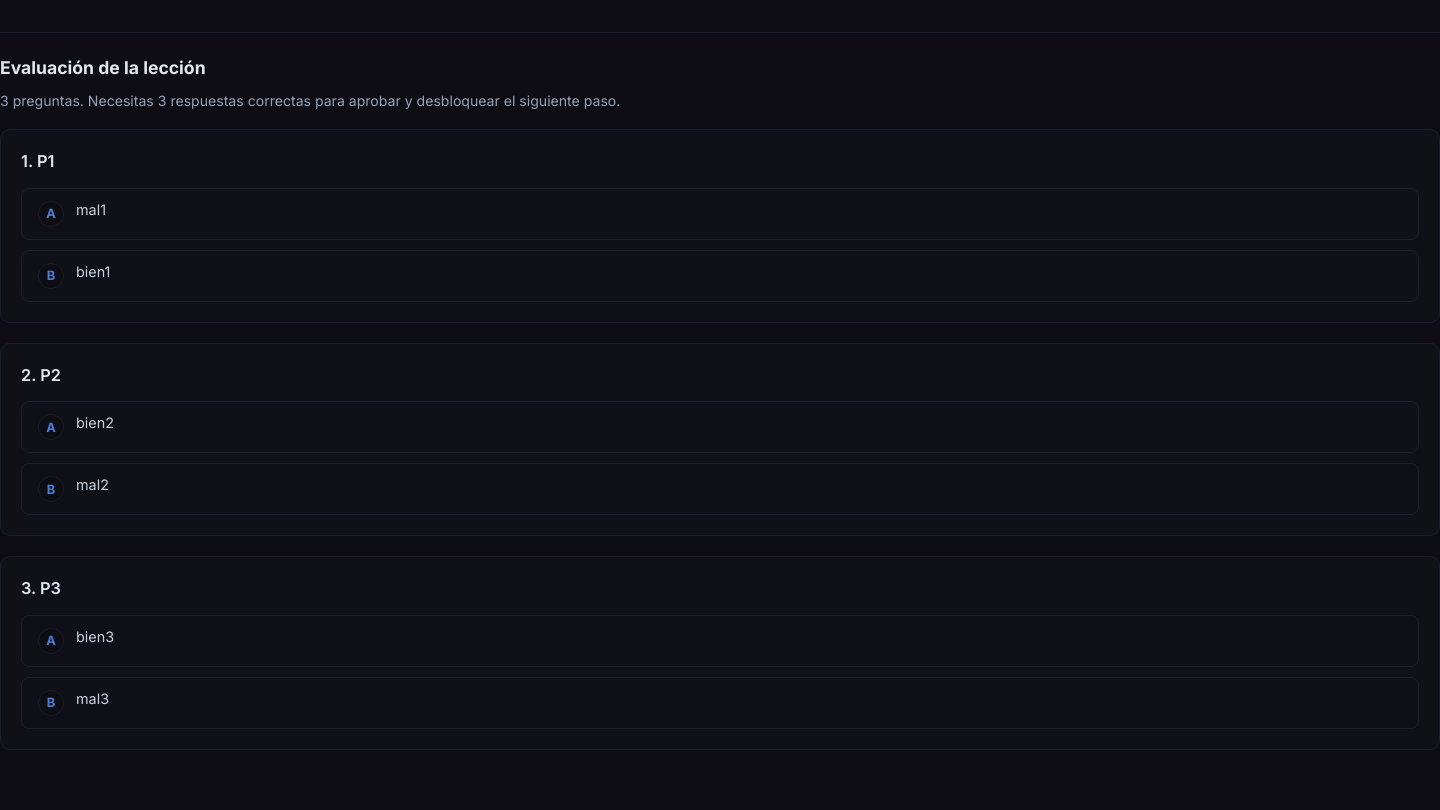
Test: Quiz › no aprueba con un error y permite reintentar
Click the button "B bien1": coordinates (93, 271) [21, 250, 1419, 302]
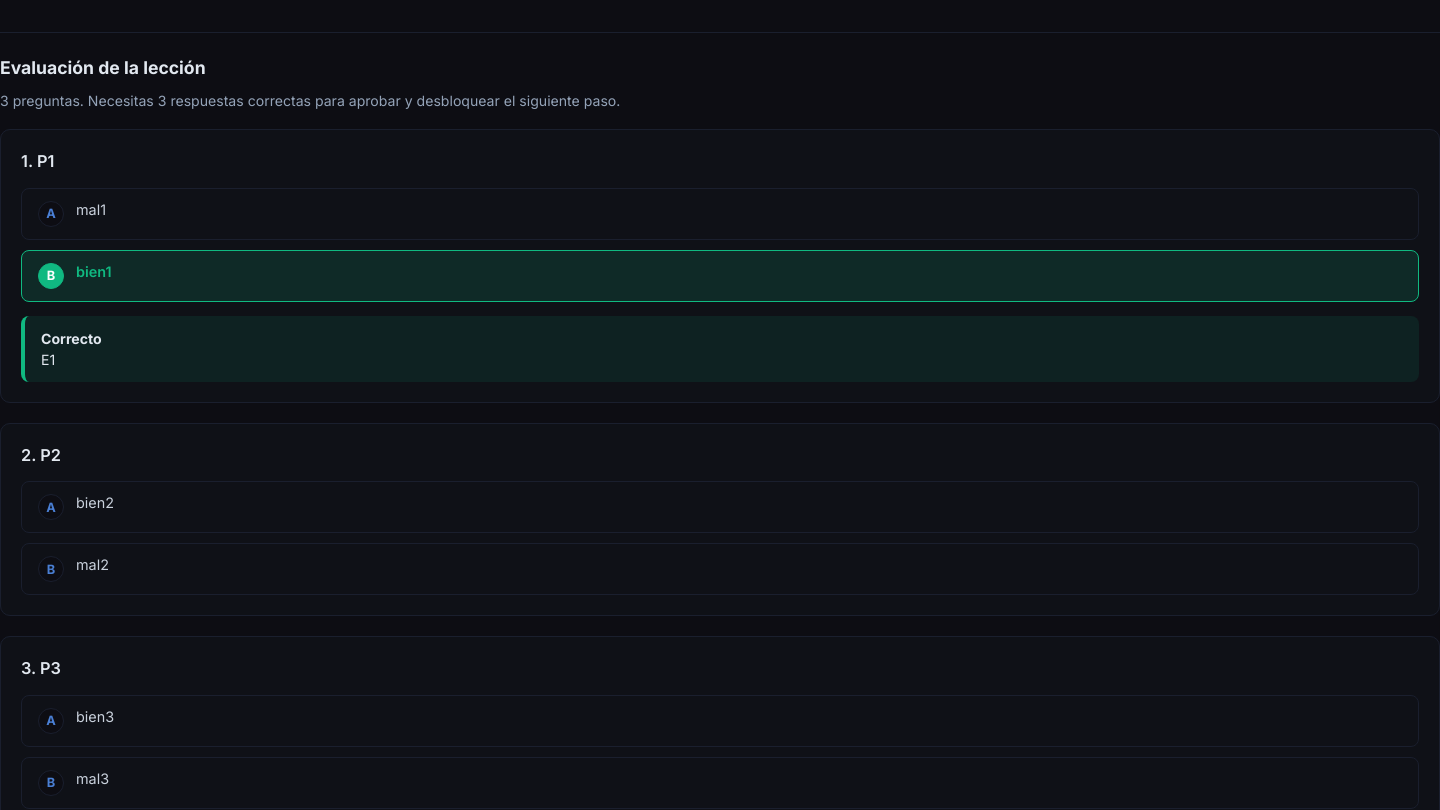
Click the button "B mal2": coordinates (92, 565) [21, 543, 1419, 595]
(page scrolled)
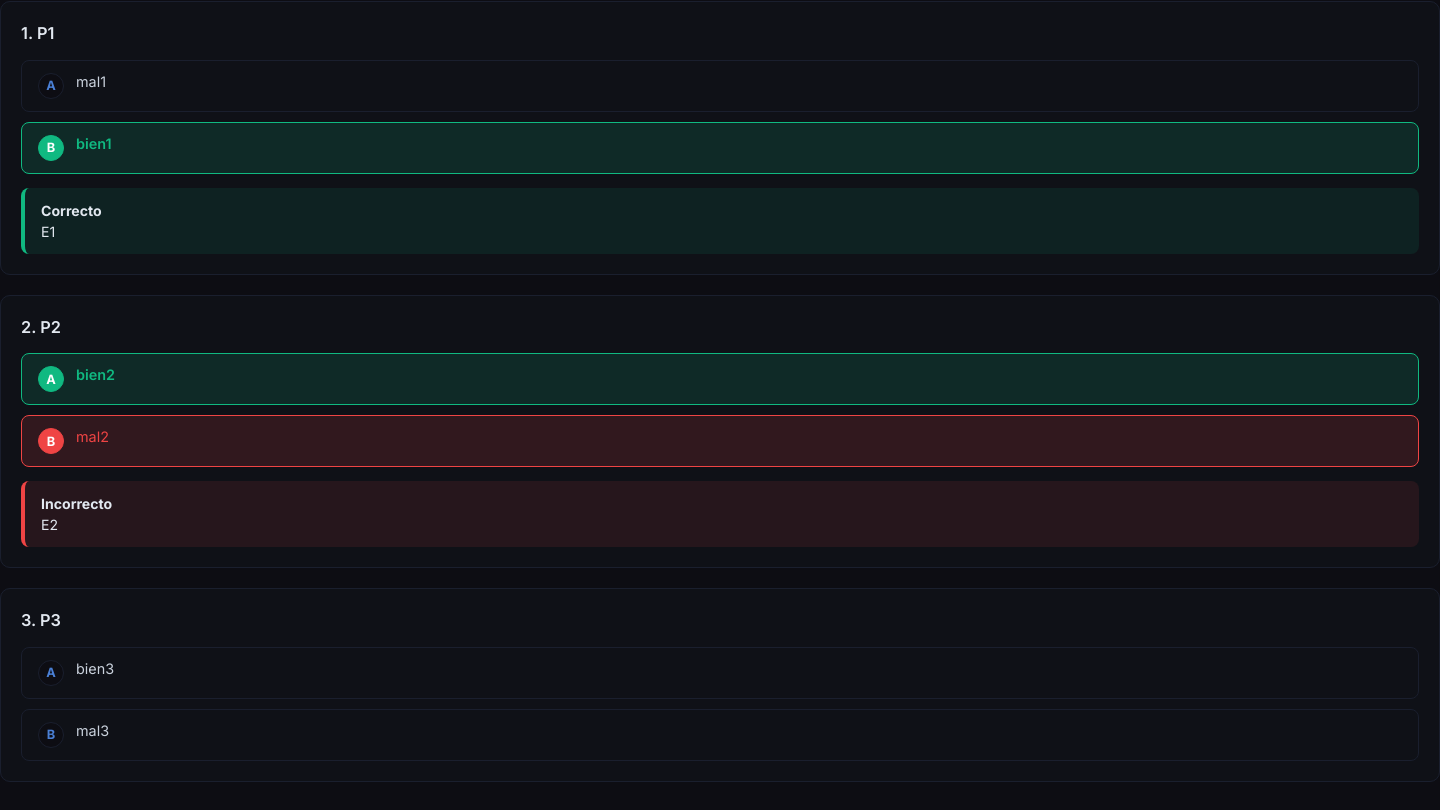
Click the button "A bien3": coordinates (95, 668) [21, 647, 1419, 699]
(page scrolled)
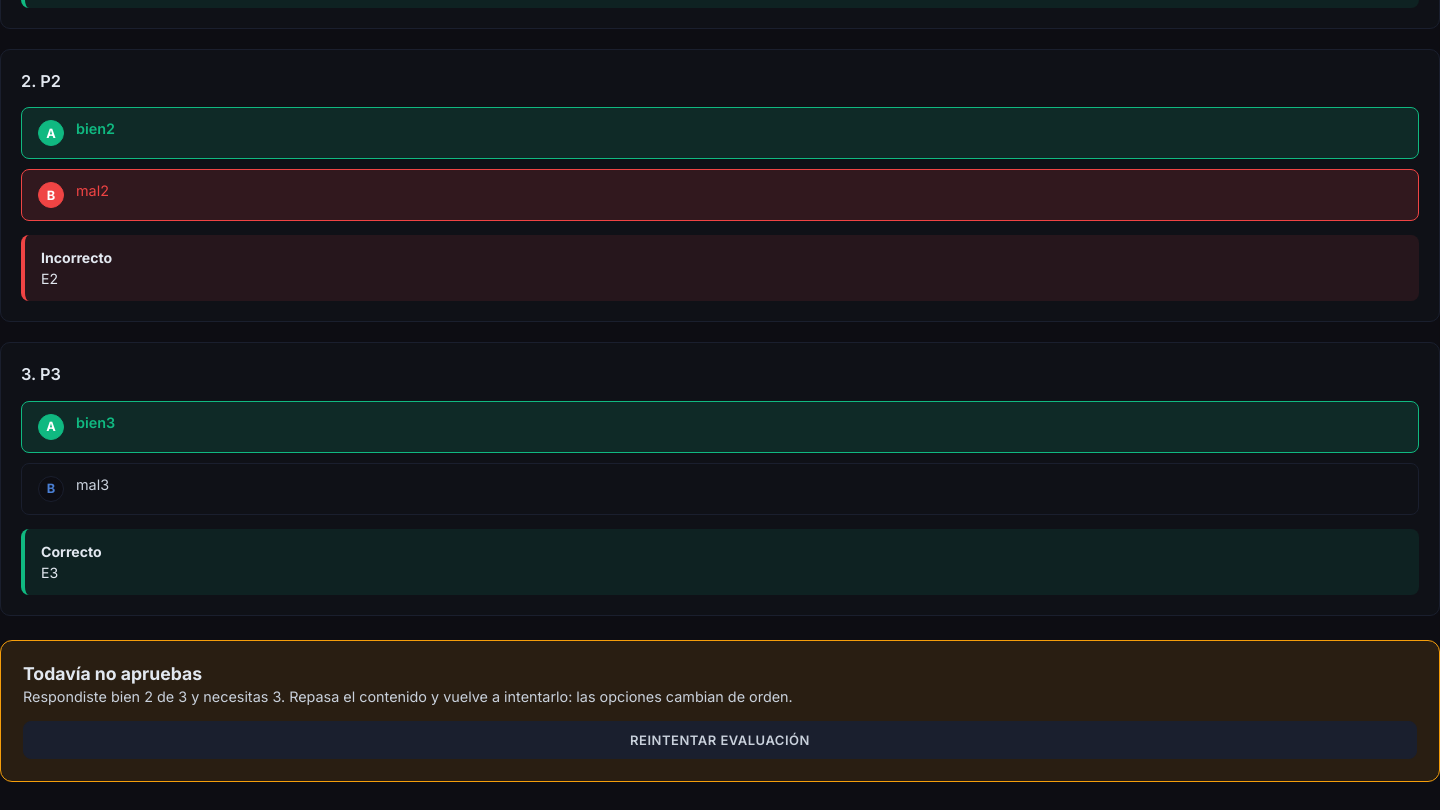
Expected: the heading "Todavía no apruebas" is shown, [23, 663, 202, 684]
Click the button "Reintentar evaluación": coordinates (720, 740) [23, 721, 1417, 759]
(page scrolled)
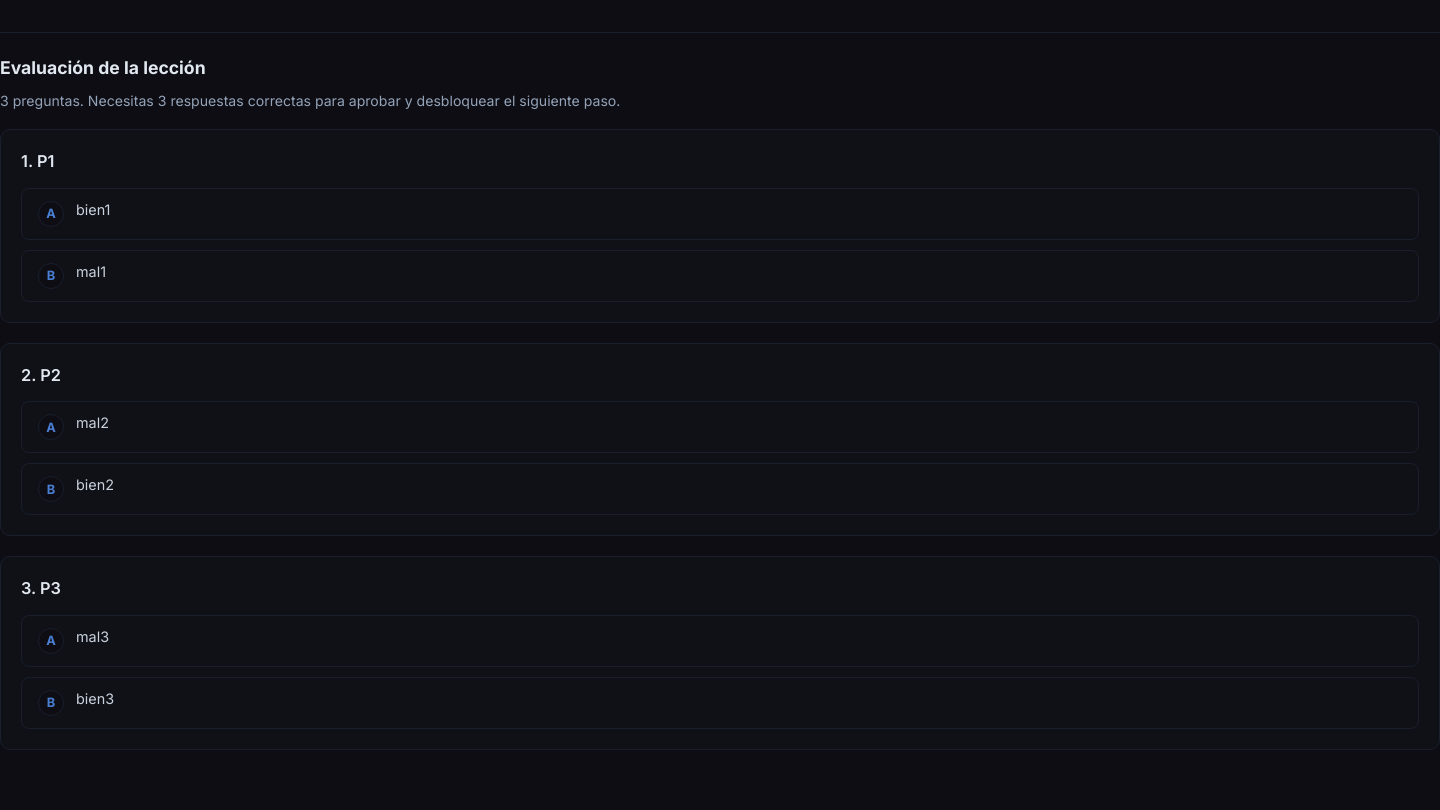
Expected: the heading "Todavía no apruebas" is gone
